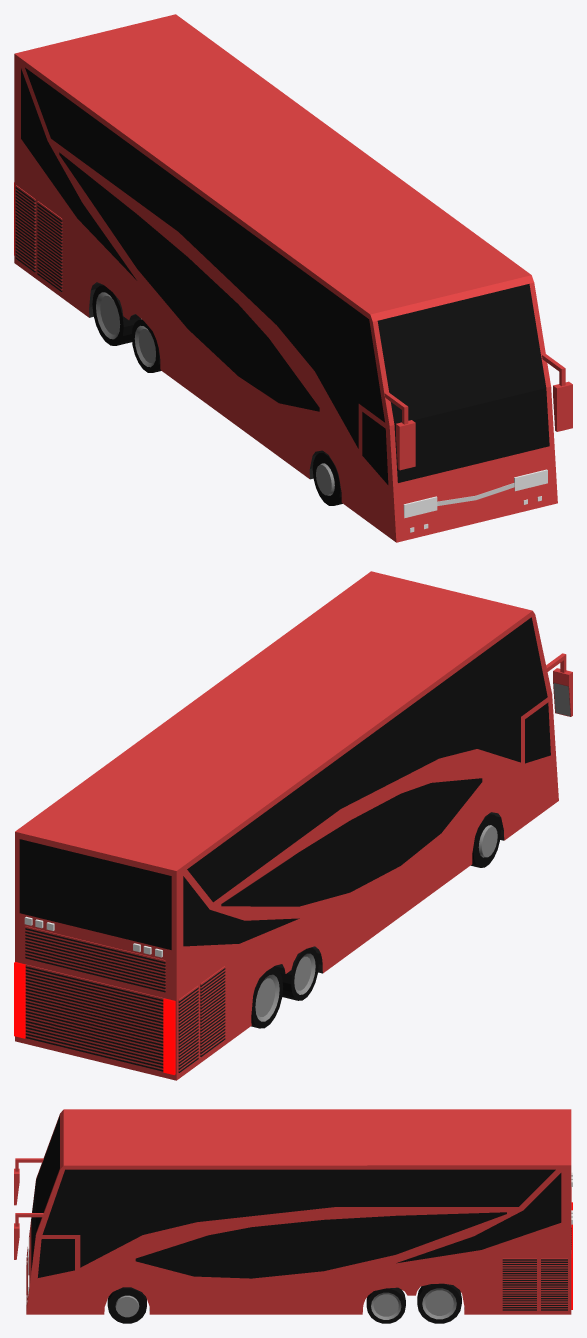
File: RED BUS.FBX
3 renders of one model, top to bottom at view 1: azimuth 30°, elevation 25°; view 2: azimuth 150°, elevation 25°; view 3: azimuth 270°, elevation 25°, orthographic. The views are drawn at different scales.
Parts seen in each view (by area): view 1: City_Bus_Body, City_Bus_Wheel_RL, City_Bus_Wheel_FL, City_Bus_Wheel_BL; view 2: City_Bus_Body, City_Bus_Wheel_RL, City_Bus_Wheel_BL, City_Bus_Wheel_FL; view 3: City_Bus_Body, City_Bus_Wheel_RR, City_Bus_Wheel_BR, City_Bus_Wheel_FR.
Boxes of the visible parts, x1,y1,x2,y2 form: City_Bus_Body: (14, 14, 572, 542); City_Bus_Wheel_RL: (92, 285, 140, 345); City_Bus_Wheel_FL: (312, 452, 342, 505); City_Bus_Wheel_BL: (131, 319, 161, 372); City_Bus_Body: (14, 571, 572, 1080); City_Bus_Wheel_RL: (251, 967, 283, 1028); City_Bus_Wheel_BL: (280, 947, 318, 1000); City_Bus_Wheel_FL: (471, 813, 500, 867); City_Bus_Body: (14, 1109, 572, 1314); City_Bus_Wheel_RR: (417, 1283, 461, 1323); City_Bus_Wheel_BR: (366, 1287, 405, 1323); City_Bus_Wheel_FR: (107, 1287, 146, 1323).
Size of the model in its own units: 2.65 by 3.26 by 10.4.
